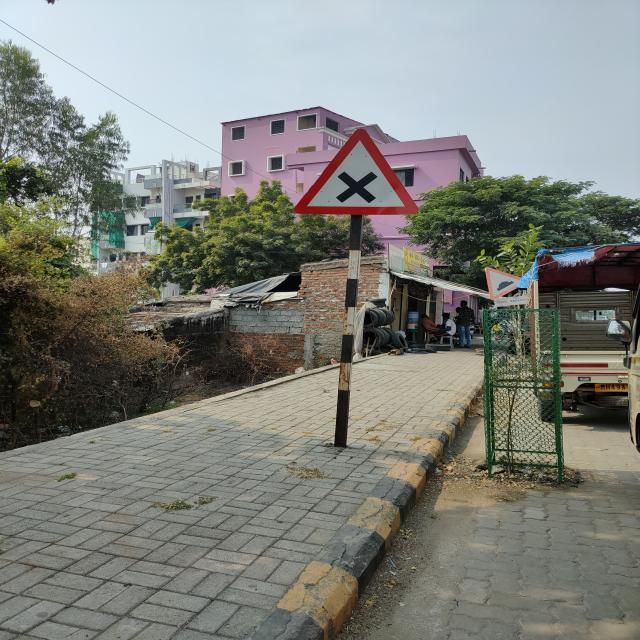cross_road: (292, 126, 420, 224)
